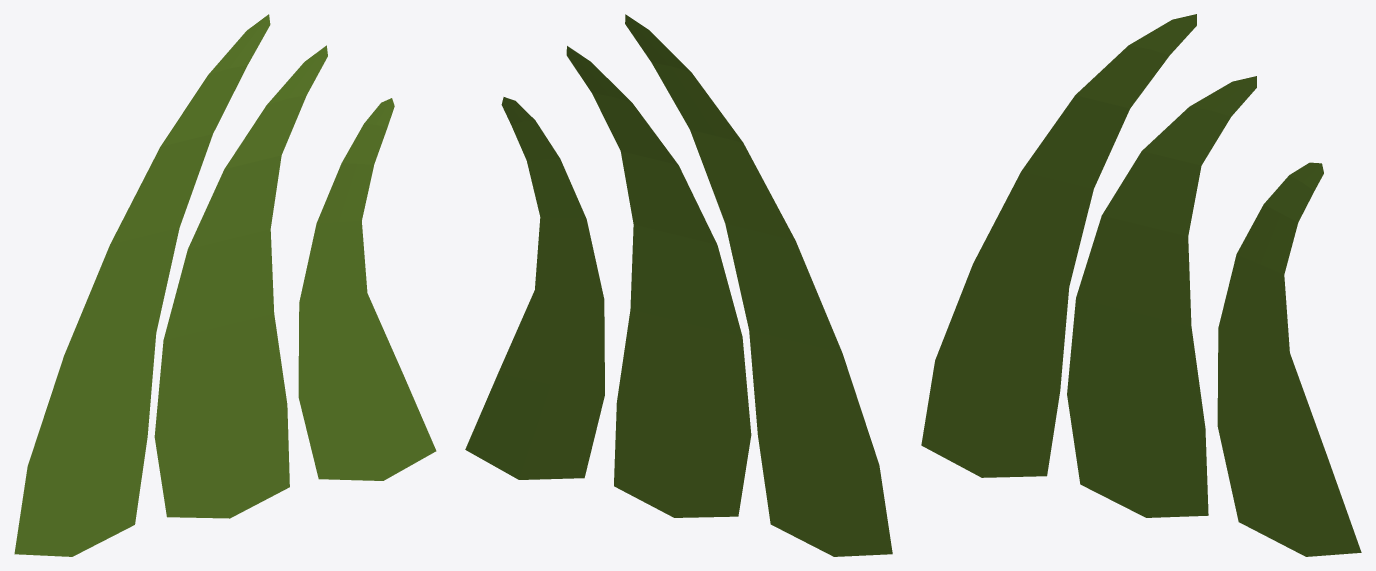
The model's file is Gras1_p.fbx.
The picture shows the model from 3 angles, left to right: view 1: azimuth 30°, elevation 25°; view 2: azimuth 150°, elevation 25°; view 3: azimuth 330°, elevation 25°; orthographic projection. The views are drawn at different scales.
Parts seen in each view (by area): view 1: Gras1; view 2: Gras1; view 3: Gras1.
Part boxes in pixels (x1,y1,x2,y2): Gras1: (14, 14, 436, 556); Gras1: (465, 14, 892, 556); Gras1: (921, 14, 1361, 556).
Size of the model in its own units: 144 by 160 by 3.04.
